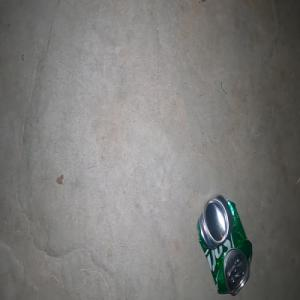SodaCan: (196, 193, 252, 296)
